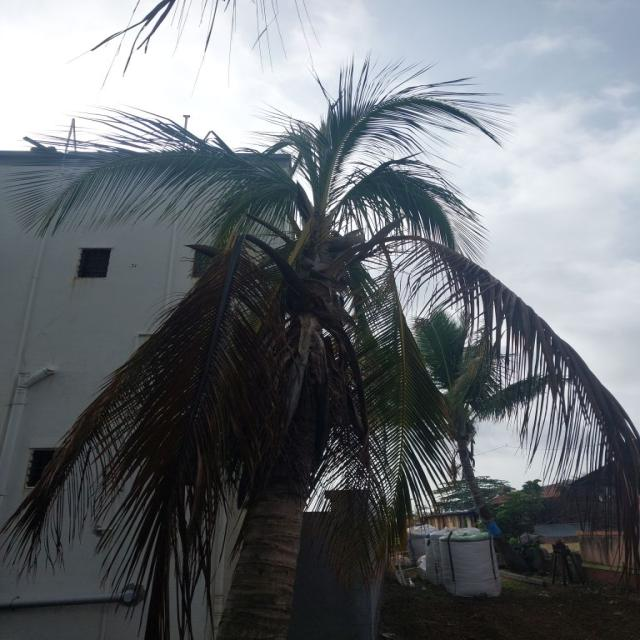bud root dropping: (5, 64, 635, 640)
